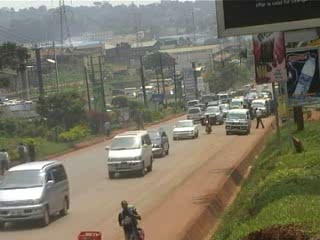Car: (0, 159, 74, 225), (101, 127, 153, 179), (145, 127, 171, 159), (169, 118, 201, 141), (202, 105, 225, 125), (181, 104, 203, 121), (214, 102, 231, 115), (205, 98, 223, 108)
Motorcycle: (201, 113, 213, 134)
